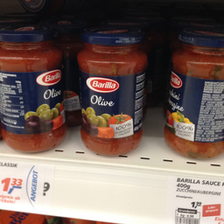tomato_sauce: (76, 29, 148, 157), (1, 24, 67, 154), (164, 30, 224, 160)
